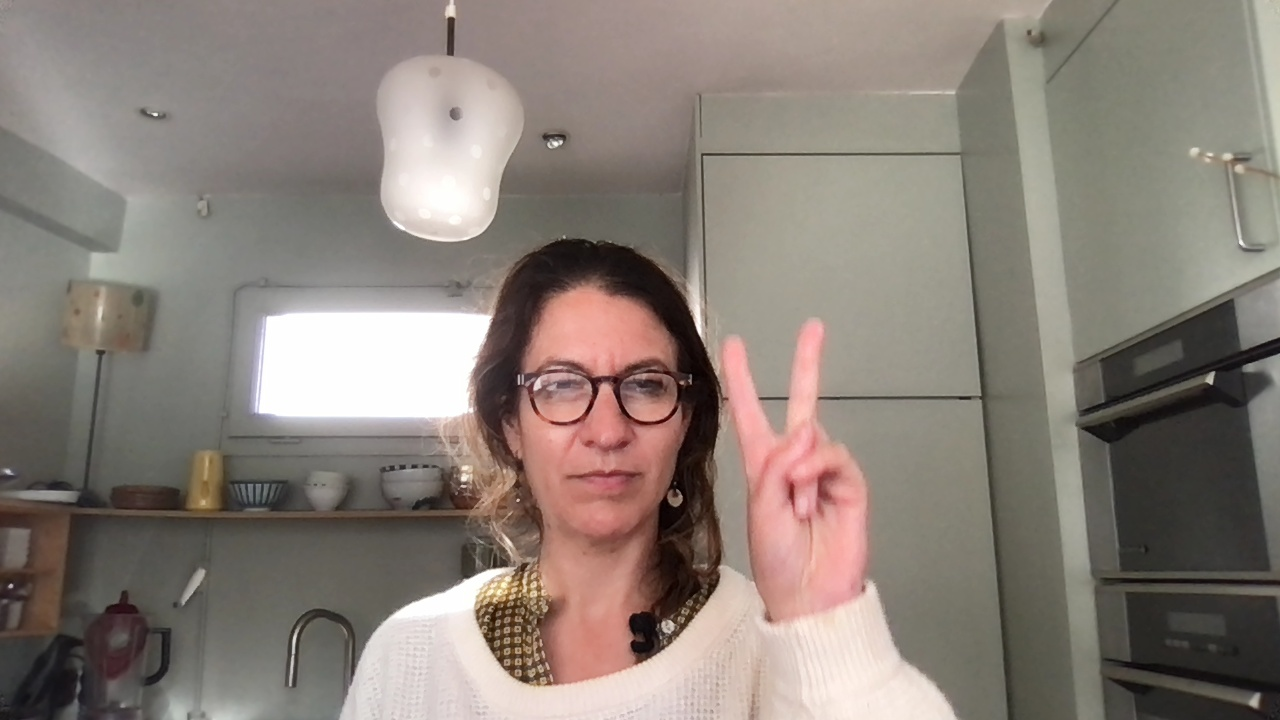peace: (720, 319, 872, 606)
